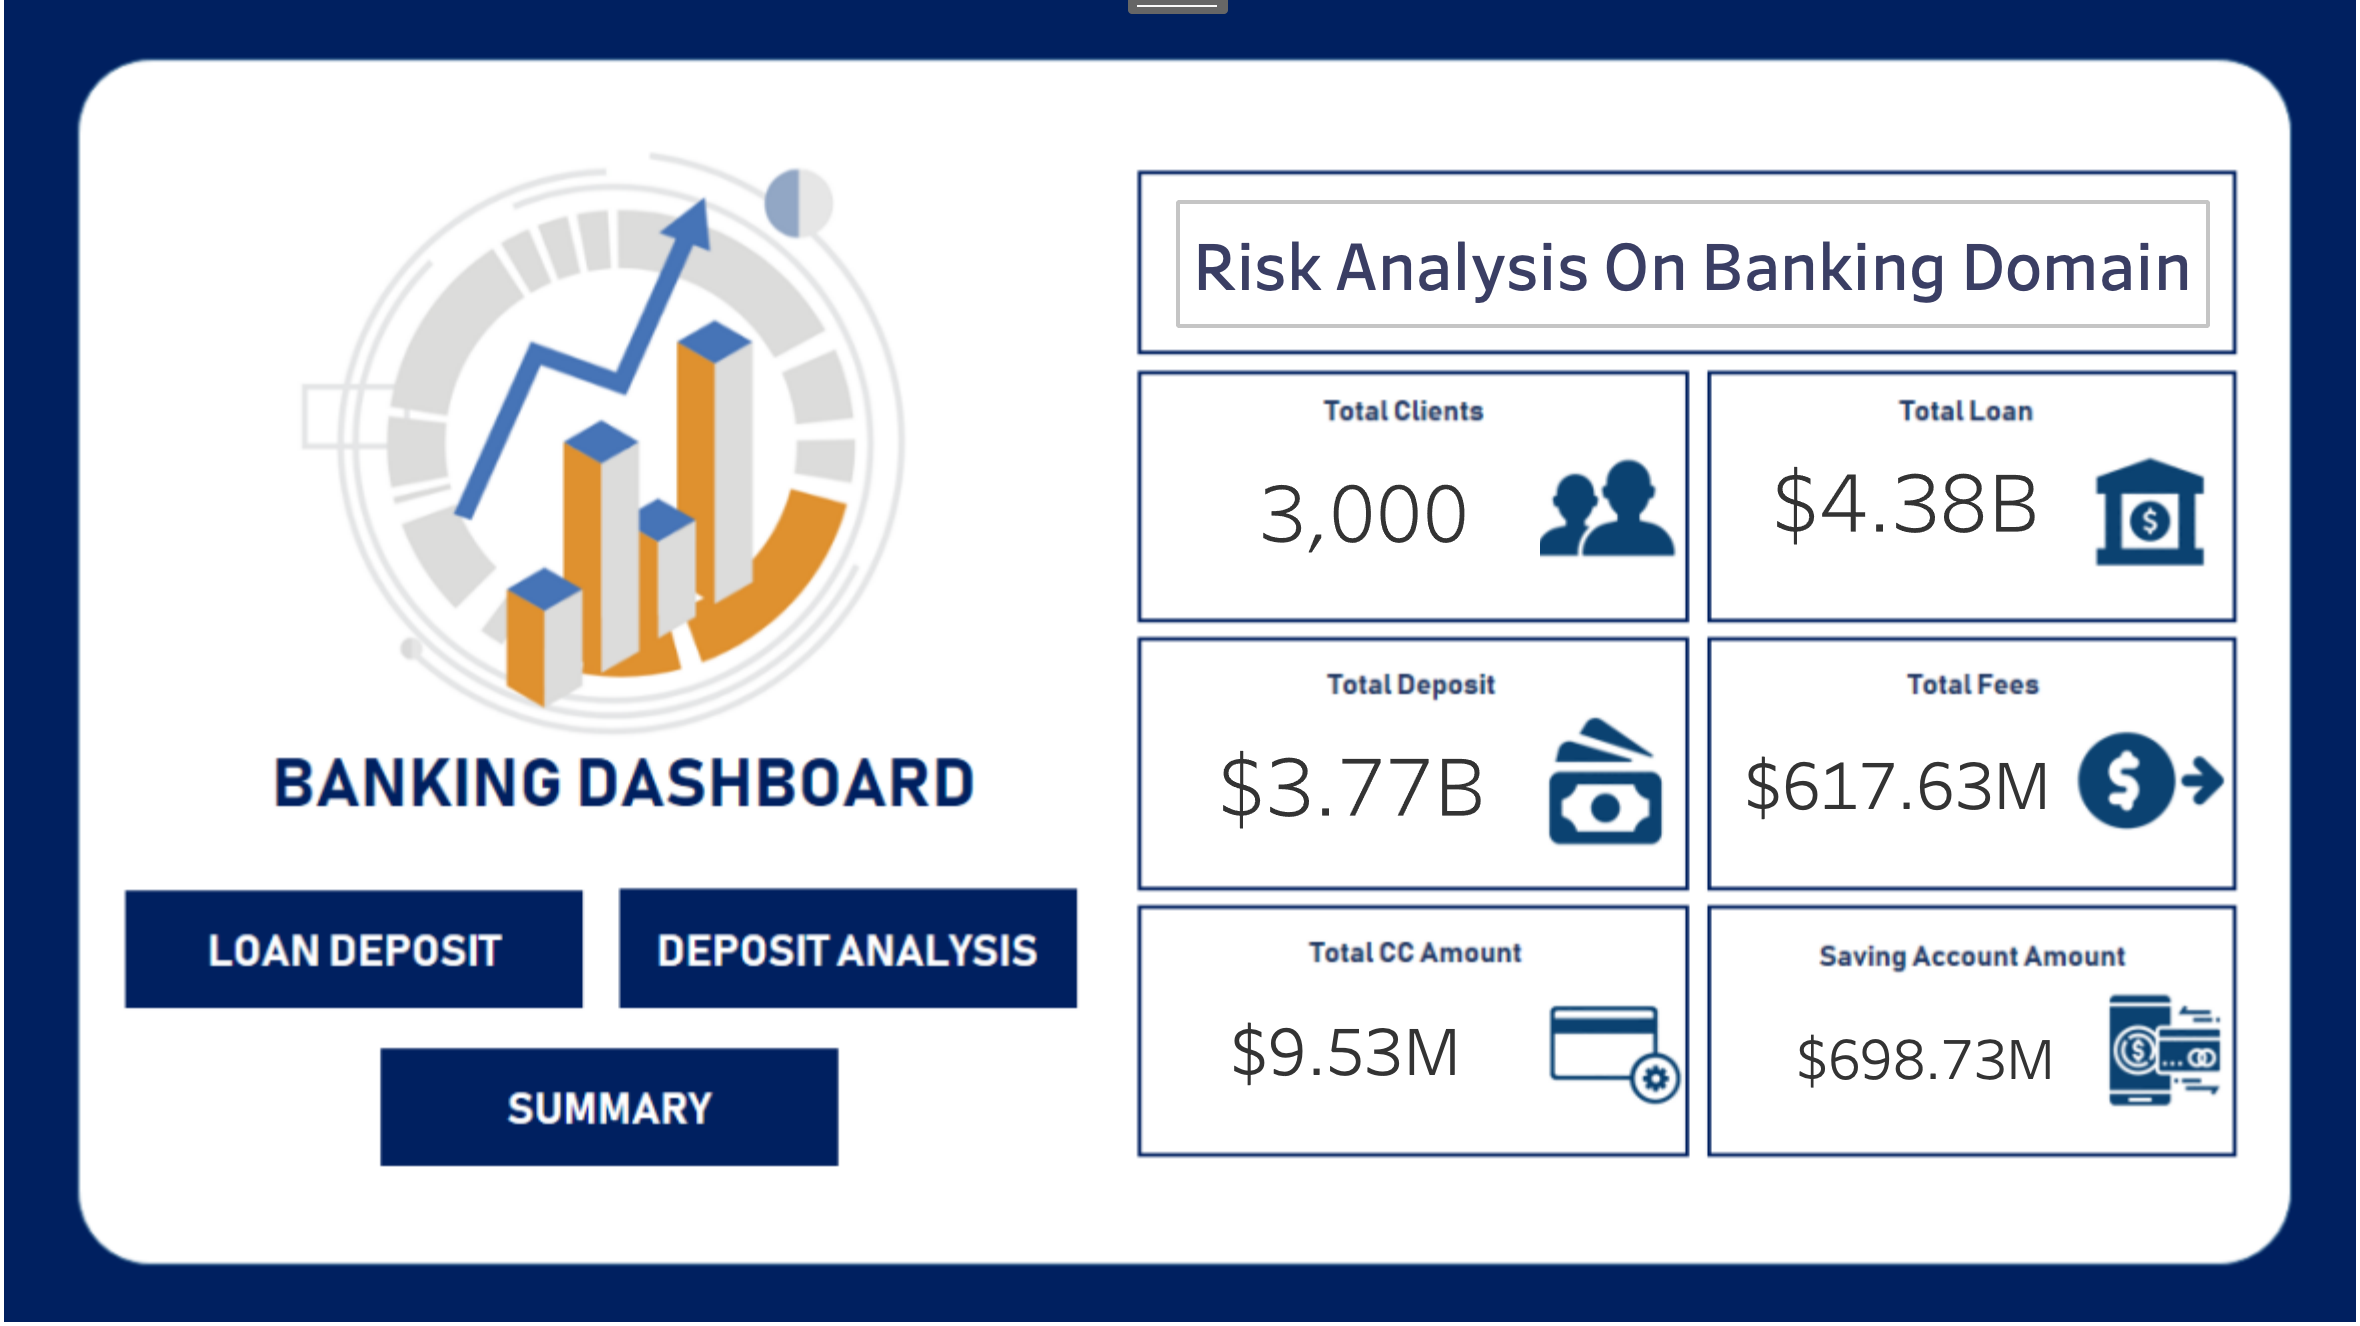

The dashboard page shown, as its layout file describes it:
{"tool":"tableau","page":{"name":"Home","canvas":[1000,1000],"units":"permille","ordinal":1},"visuals":[{"type":"image","param":"Image/Home.png","box":[6.5,11.7,987.1,976.7]},{"type":"image","param":"Image/Home_CANVA_TEMPLATE.png","box":[1.7,13.1,995,981.1]},{"type":"text","box":[500,166.2,427.5,87.5]},{"type":"worksheet","title":"Client","mark":"Automatic","box":[483.9,335.3,147.6,107.9]},{"type":"worksheet","title":"T_loan","mark":"Automatic","box":[704.8,348.4,151.6,97.7]},{"type":"worksheet","title":"Total_Fees","mark":"Automatic","box":[708.9,543.7,141.9,96.2]},{"type":"worksheet","title":"Total_Depo","mark":"Automatic","box":[476.6,549.6,157.3,96.2]},{"type":"worksheet","title":"Total_CC_AMT","mark":"Automatic","box":[505.8,727.4,125.8,109.3]},{"type":"worksheet","title":"SAVG_ACC","mark":"Automatic","box":[725,749.3,136.3,83.1]}]}

Visuals, with their boxes on the dashboard's canvas, which has no fixed pixel size, in thousandths of its width and height (x1, y1, x2, y2). These are canvas units, not pixel positions in the 2360x1326 screenshot, which may show the page scaled, cropped or inside an application window:
image: Rect(6, 12, 994, 988)
image: Rect(2, 13, 997, 994)
text: Rect(500, 166, 928, 254)
"Client" worksheet: Rect(484, 335, 632, 443)
"T_loan" worksheet: Rect(705, 348, 856, 446)
"Total_Fees" worksheet: Rect(709, 544, 851, 640)
"Total_Depo" worksheet: Rect(477, 550, 634, 646)
"Total_CC_AMT" worksheet: Rect(506, 727, 632, 837)
"SAVG_ACC" worksheet: Rect(725, 749, 861, 832)
